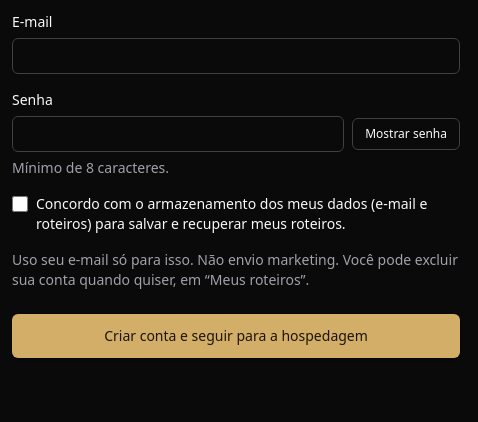
Test: AuthForm (UX-SPEC.md §8.2 T-GATE/T-LOGIN, RF-16, RNF-13) › modo cadastro › bloqueia o envio e mostra erro inline quando o consentimento não está marcado
Type "pessoa@example.com" into the field labelled "E-mail" at (236, 56), box [12, 38, 460, 74]
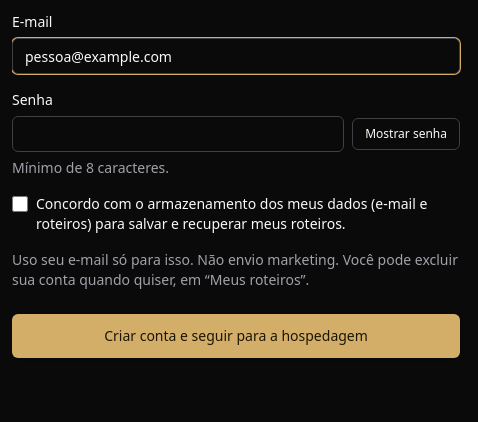
Type "senhaForte123" into the password field labelled "Senha" at (178, 134), box [12, 116, 344, 152]
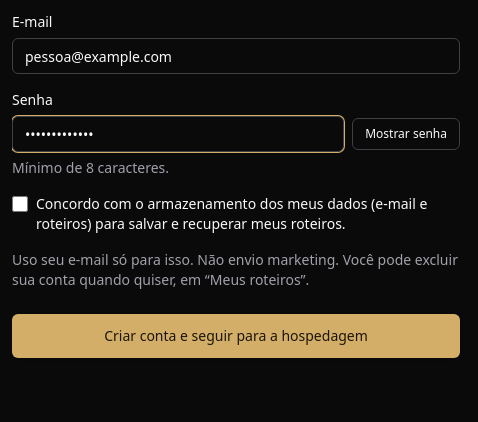
Click the button "Criar conta e seguir para a hospedagem" at (236, 336), box [12, 314, 460, 358]
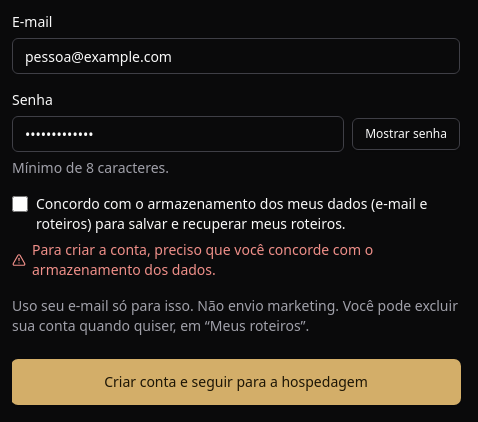
Check: the message reads "Para criar a conta, preciso que você concorde com o armazenamento dos dados.", box [32, 240, 373, 279]
